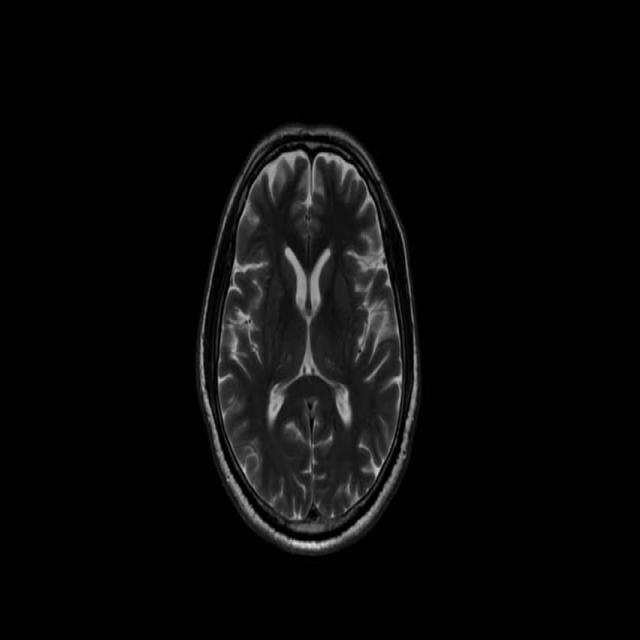No_Tumor: (199, 126, 420, 554)
